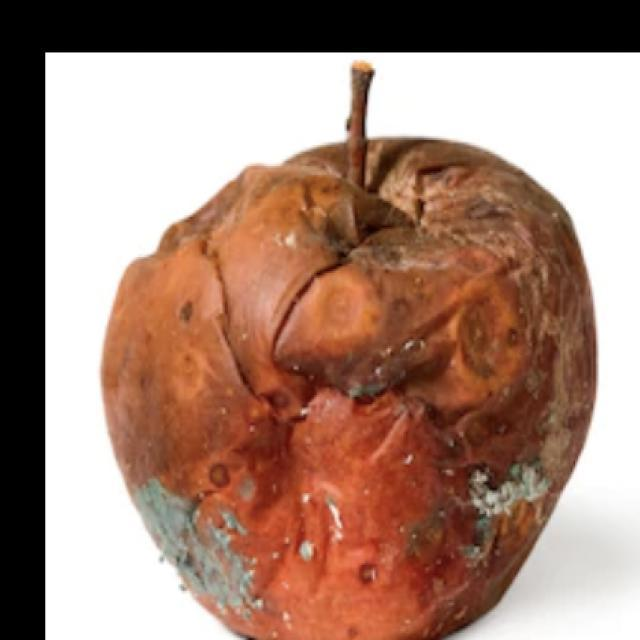Rotten: (94, 136, 588, 640)
